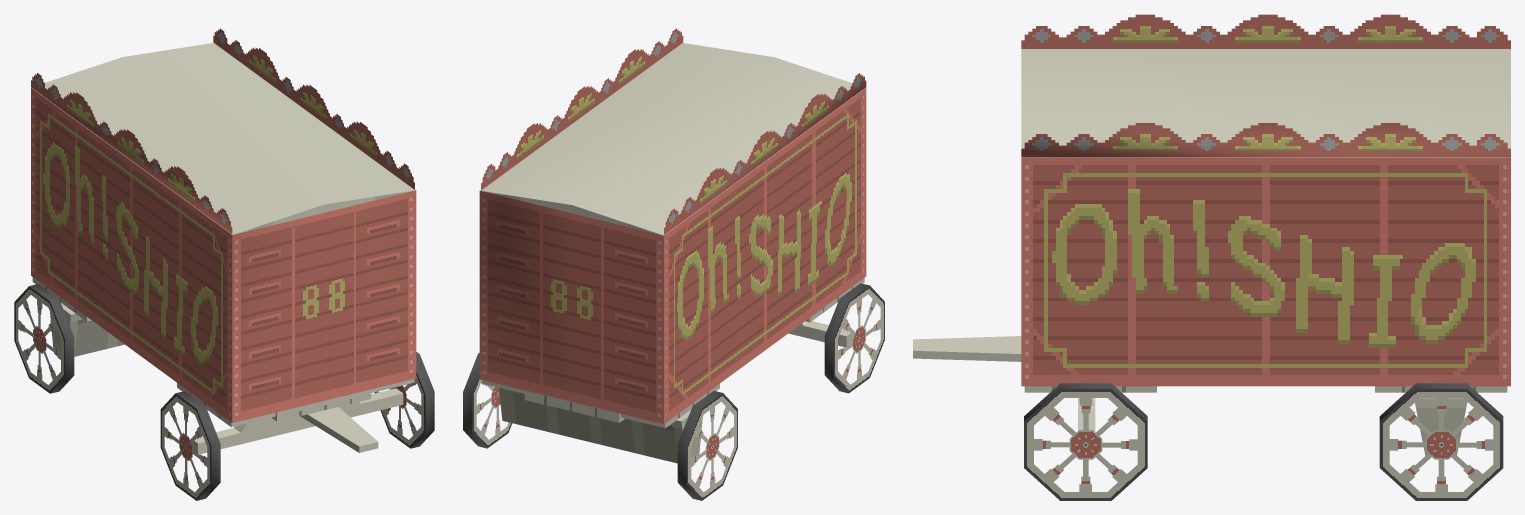
Rendered from 049f_Flat_Car.glb.
3 renders of one model, left to right at view 1: azimuth 30°, elevation 25°; view 2: azimuth 150°, elevation 25°; view 3: azimuth 270°, elevation 25°, orthographic. The views are drawn at different scales.
Parts seen in each view (by area): view 1: part_0; view 2: part_0; view 3: part_0.
Part boxes in pixels (left/top/right/bottom): part_0: left=14, top=28, right=434, bottom=500; part_0: left=463, top=28, right=884, bottom=500; part_0: left=913, top=14, right=1510, bottom=500.
Bounding box in the file's own units: 2.68 × 3.45 × 5.11.
Materials: 1 (1 with a texture image).
